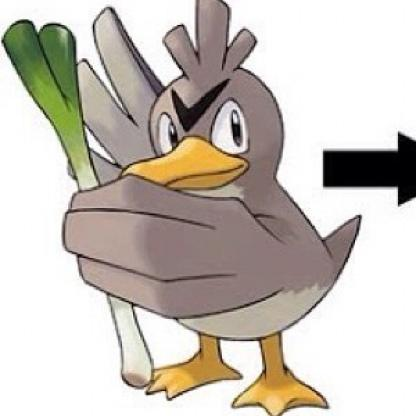Farfetchd: (21, 2, 359, 410)
